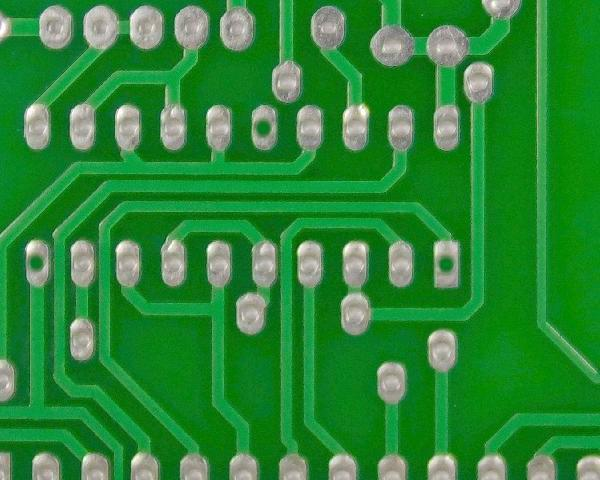missing hole: (428, 237, 467, 291), (248, 99, 284, 151), (22, 236, 56, 290)
